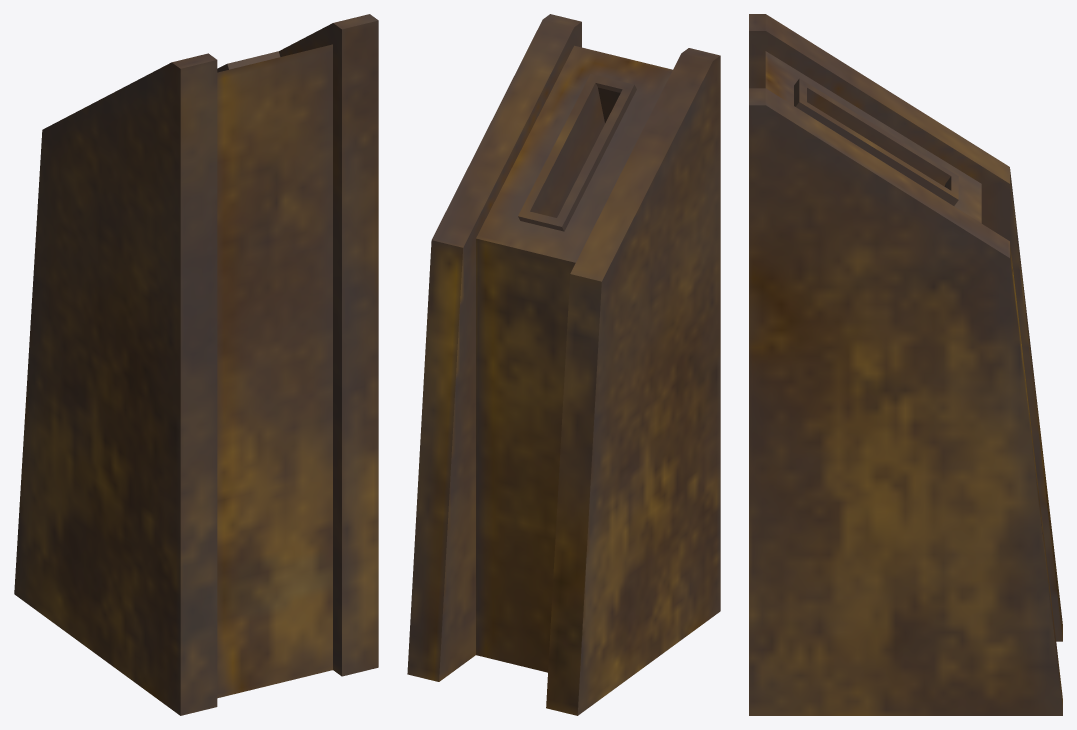
The model's file is Lever base.fbx.
3 renders of one model, left to right at view 1: azimuth 30°, elevation 25°; view 2: azimuth 150°, elevation 25°; view 3: azimuth 270°, elevation 25°, orthographic. The views are drawn at different scales.
Parts seen in each view (by area): view 1: Cube.007; view 2: Cube.007; view 3: Cube.007.
Boxes of the visible parts, x1,y1,x2,y2 form: Cube.007: (14, 14, 378, 715); Cube.007: (407, 14, 720, 715); Cube.007: (749, 14, 1062, 715).
Size of the model in its own units: 49.97 by 156 by 72.61.
